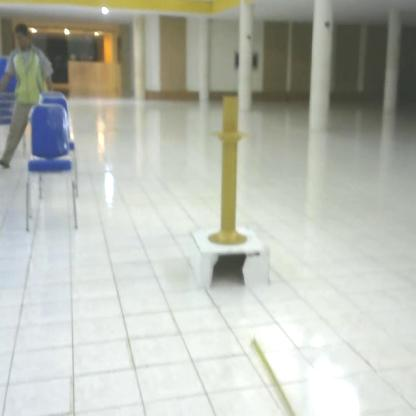pole: (207, 93, 254, 252)
